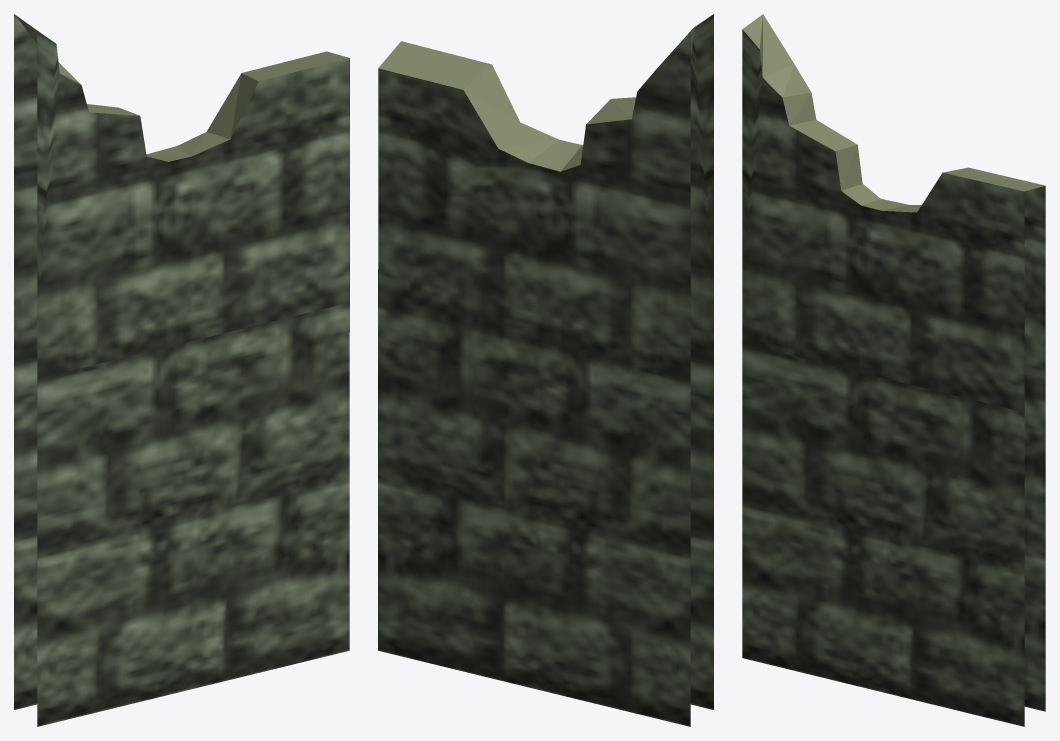
The model's file is ruins_grid_86_1.glb.
The picture shows the model from 3 angles, left to right: view 1: azimuth 30°, elevation 25°; view 2: azimuth 150°, elevation 25°; view 3: azimuth 330°, elevation 25°; orthographic projection. The views are drawn at different scales.
Visible parts, largest first — view 1: ruins_grid_86_1; view 2: ruins_grid_86_1; view 3: ruins_grid_86_1.
Boxes of the visible parts, bbox=[...] form: ruins_grid_86_1: bbox=[14, 14, 349, 726]; ruins_grid_86_1: bbox=[378, 14, 713, 726]; ruins_grid_86_1: bbox=[742, 14, 1045, 726].
Size of the model in its own units: 1.88 by 4 by 0.2405.
2 materials, 1 textured.
